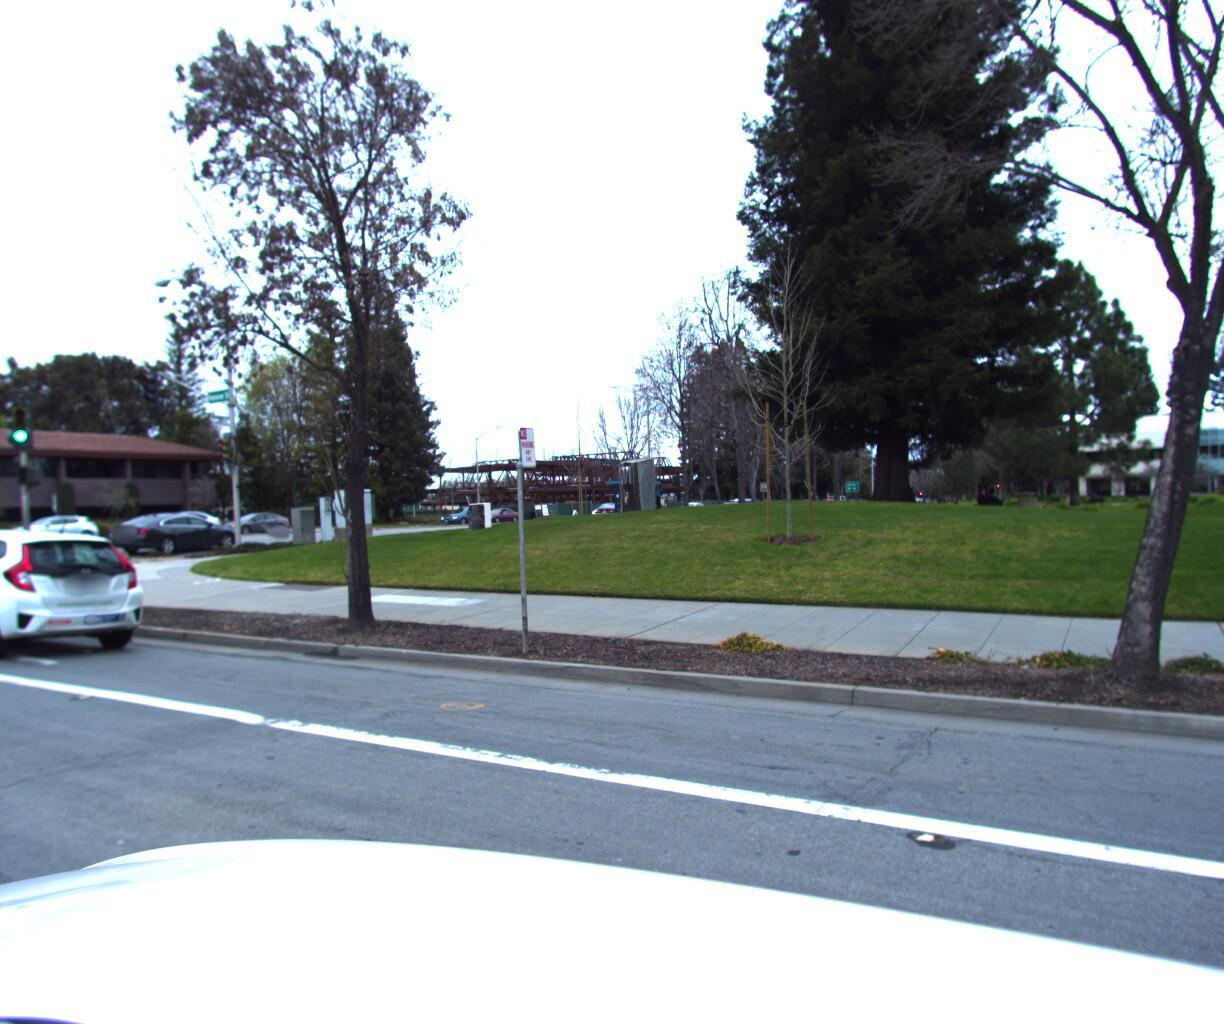car: (0, 525, 160, 673), (109, 509, 245, 554), (1, 513, 108, 546), (219, 506, 300, 535), (436, 502, 493, 525), (477, 504, 527, 524)
